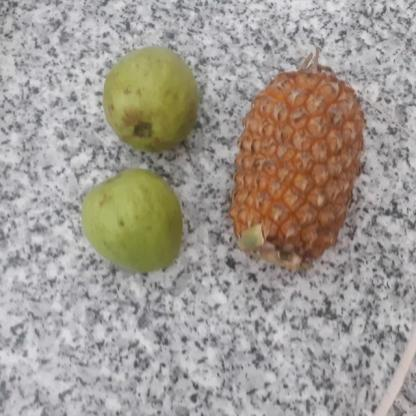guava: (77, 171, 184, 271), (96, 48, 198, 149)
pineapple: (229, 63, 363, 269)
